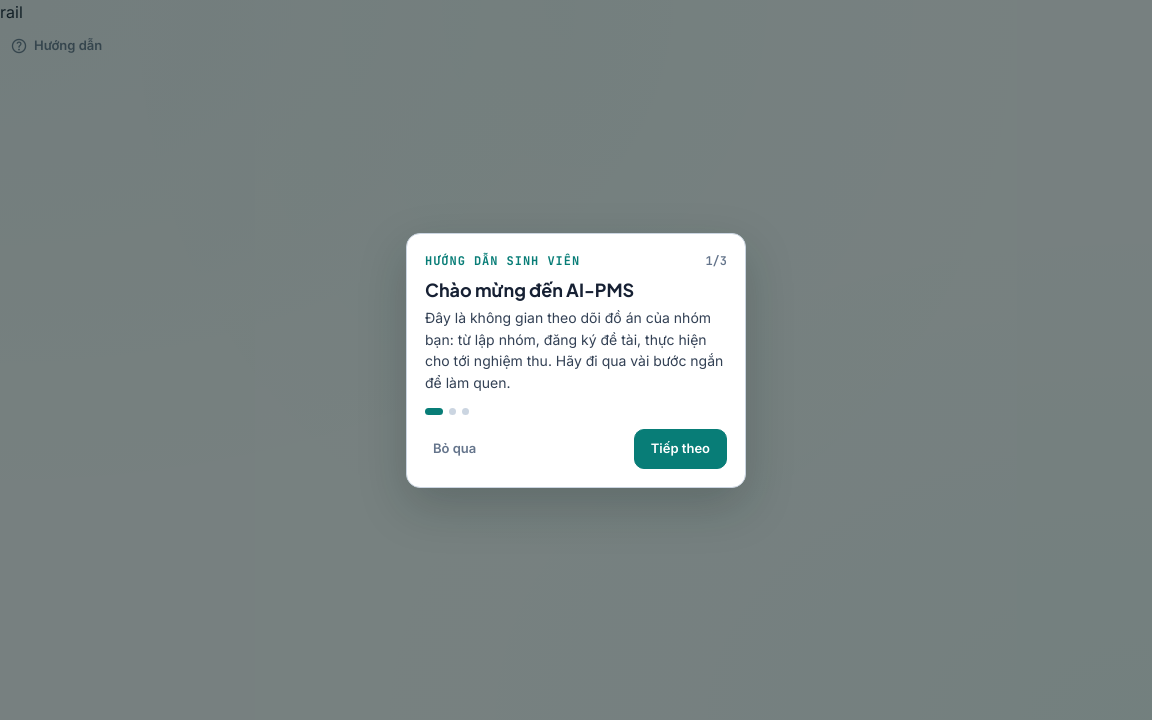
TourProvider › auto-starts once for a new student and marks the tour seen when finished
Expected: the dialog is shown, [406,232,746,488]
Expected: the heading "Chào mừng đến AI-PMS" is shown, [425,278,634,300]
Click the button "Tiếp theo" at (680, 449), box [634,429,727,469]
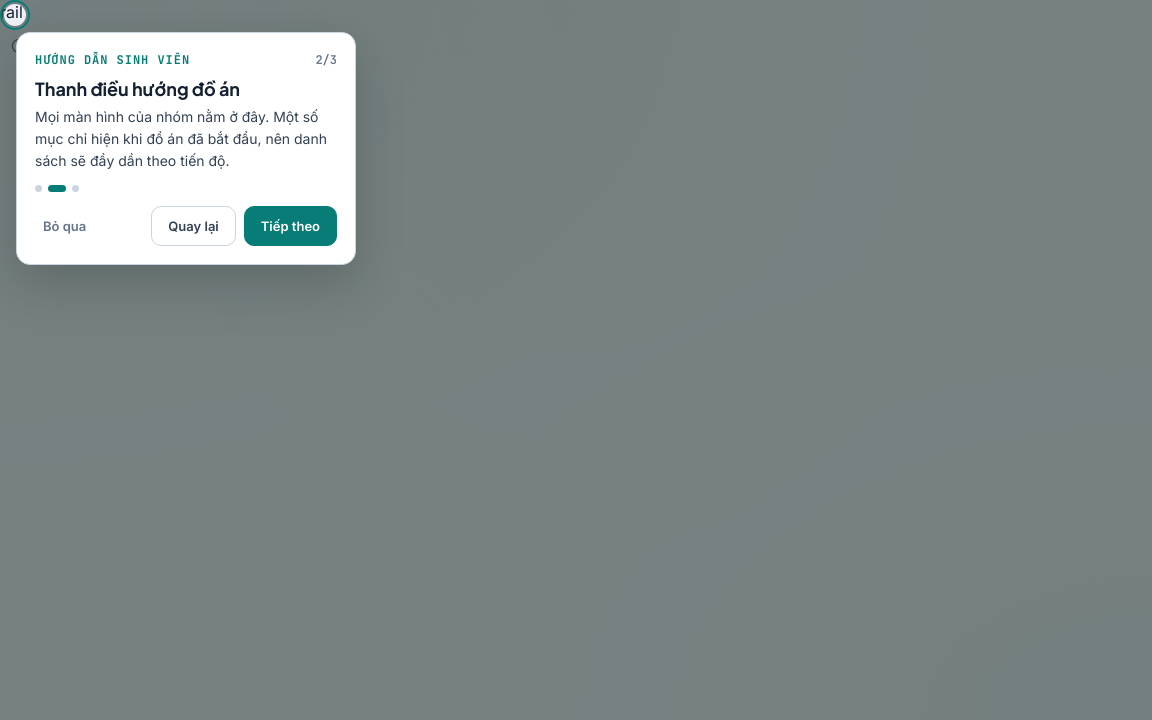
Expected: the heading "Thanh điều hướng đồ án" is shown, [35,77,240,100]
Click the button "Tiếp theo" at (290, 226), box [244,206,337,246]
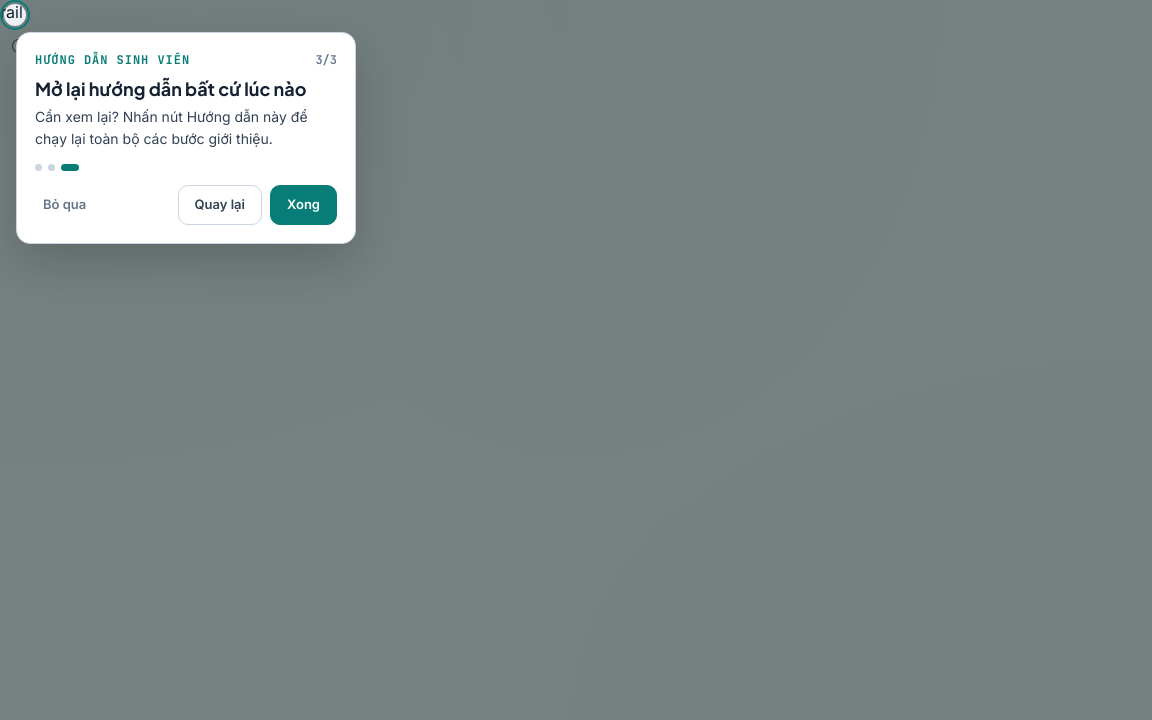
Click the button "Xong" at (304, 205), box [270,185,337,225]
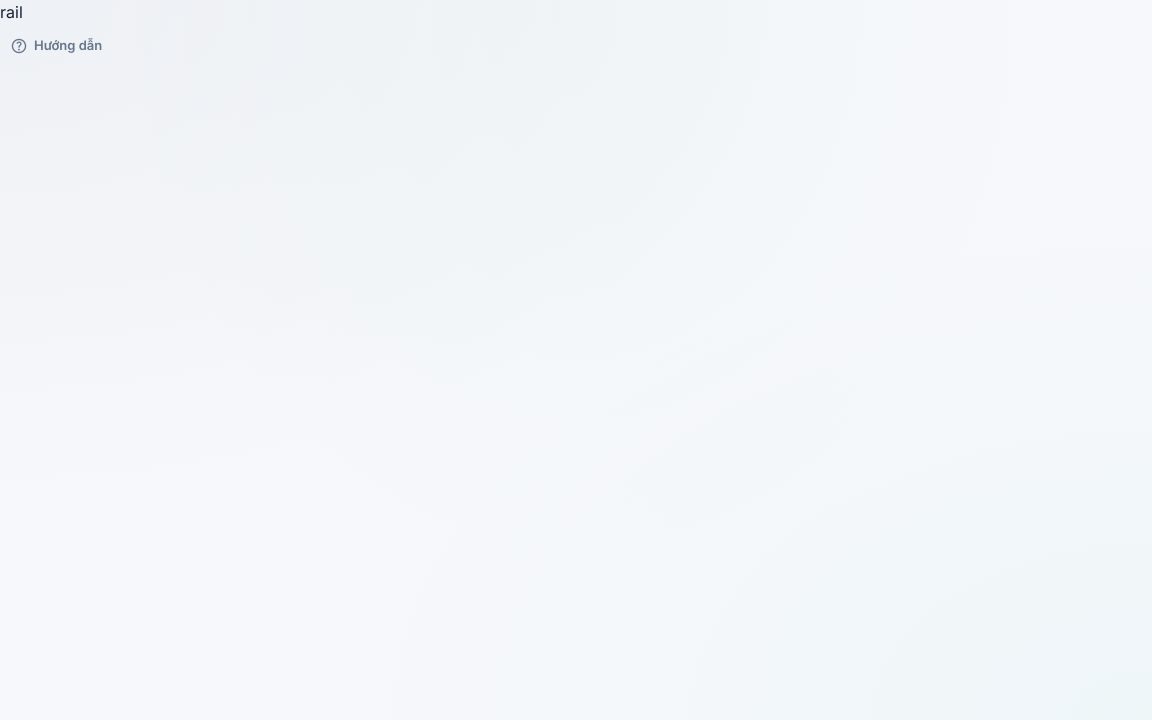
Expected: the dialog is gone
